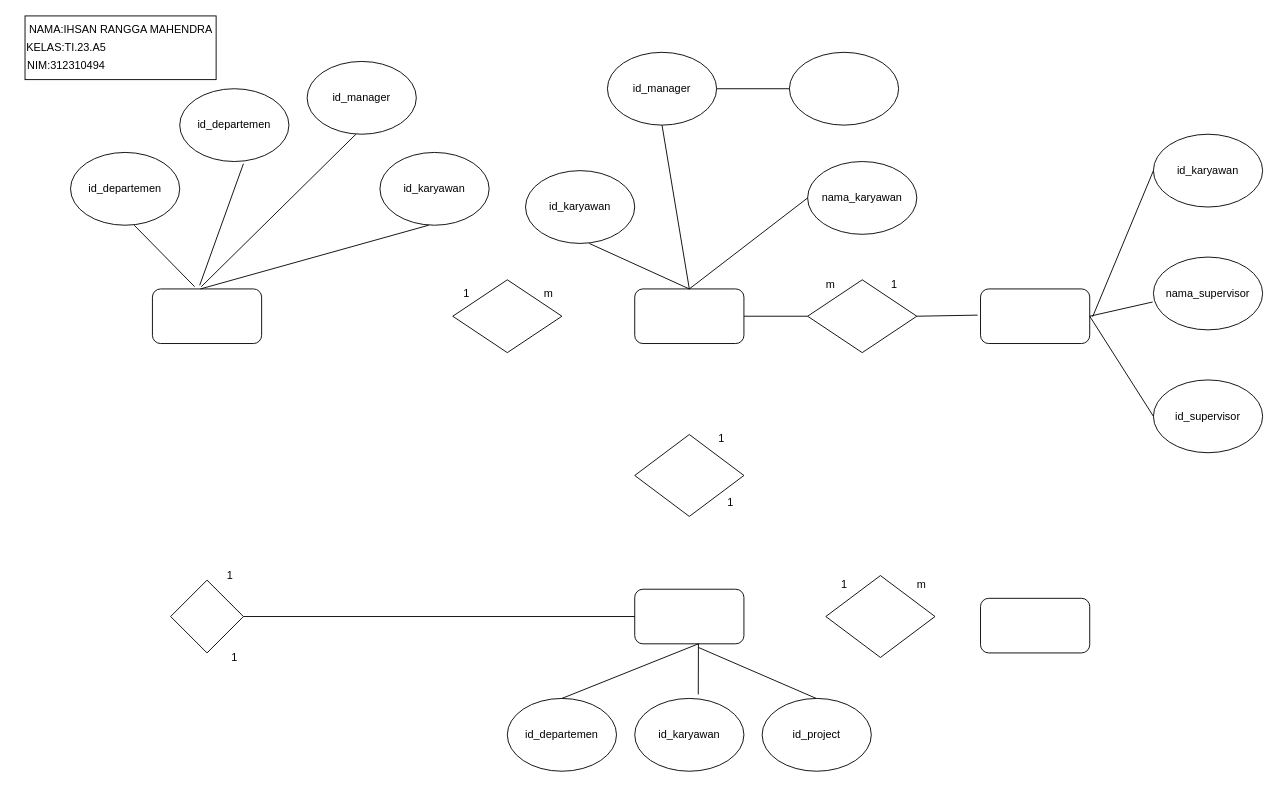
The diagram is 1279 pixels wide and 787 high, and some of its shapes have lost their labels. Each missing label, with the centre of its shape:
"departemen" goes at (x=207, y=316).
"karyawan" goes at (x=689, y=316).
"karyawan_project" goes at (x=689, y=616).
"nama_manager" goes at (x=844, y=88).
"project" goes at (x=1035, y=625).
"supervisor" goes at (x=1035, y=316).
